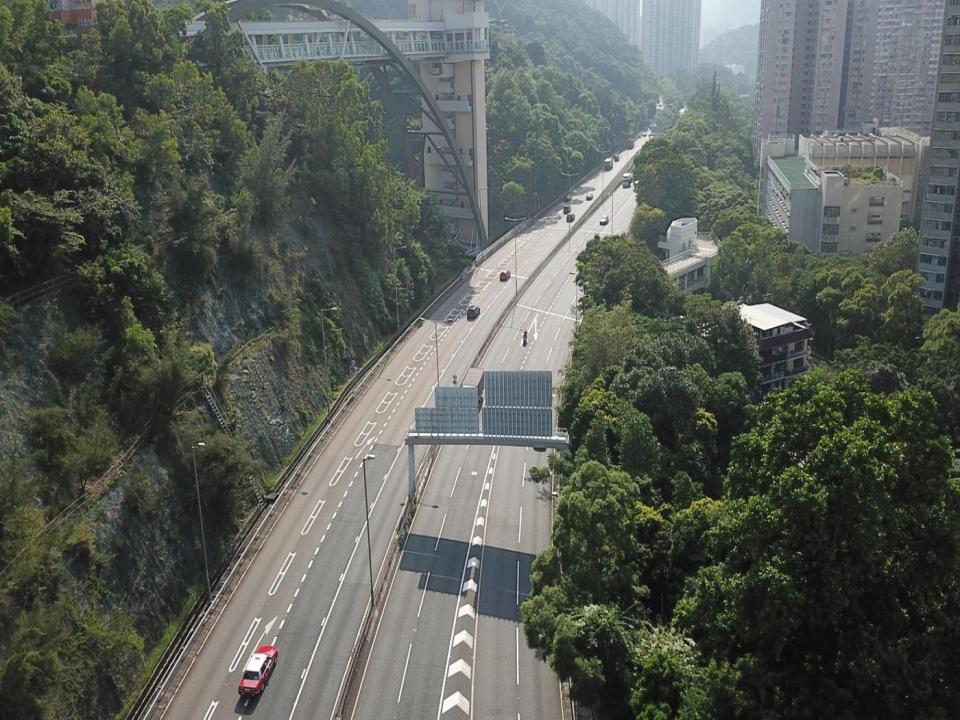car: (237, 644, 279, 696), (466, 304, 481, 318), (499, 268, 511, 280), (599, 215, 609, 226), (566, 212, 575, 223), (563, 204, 571, 214), (563, 194, 572, 202), (586, 192, 593, 201)
truck: (603, 156, 613, 170)
